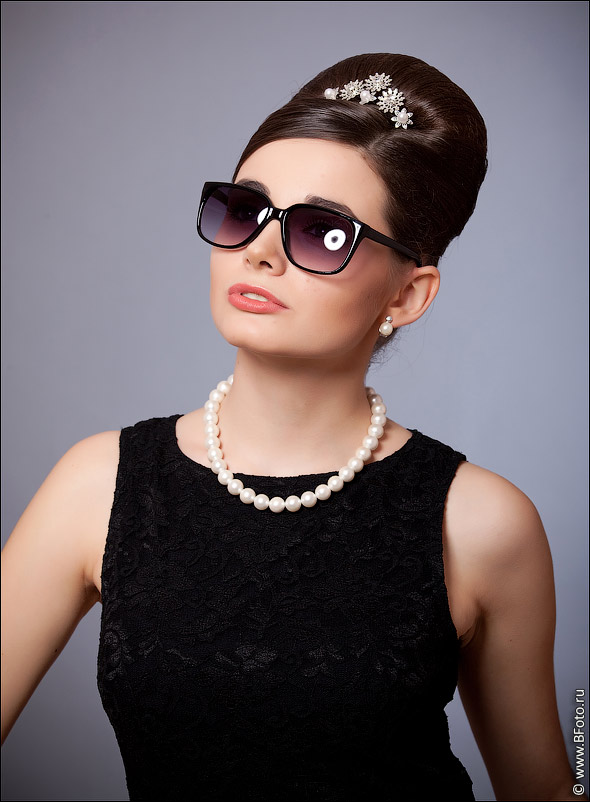glasses: (191, 176, 367, 279)
